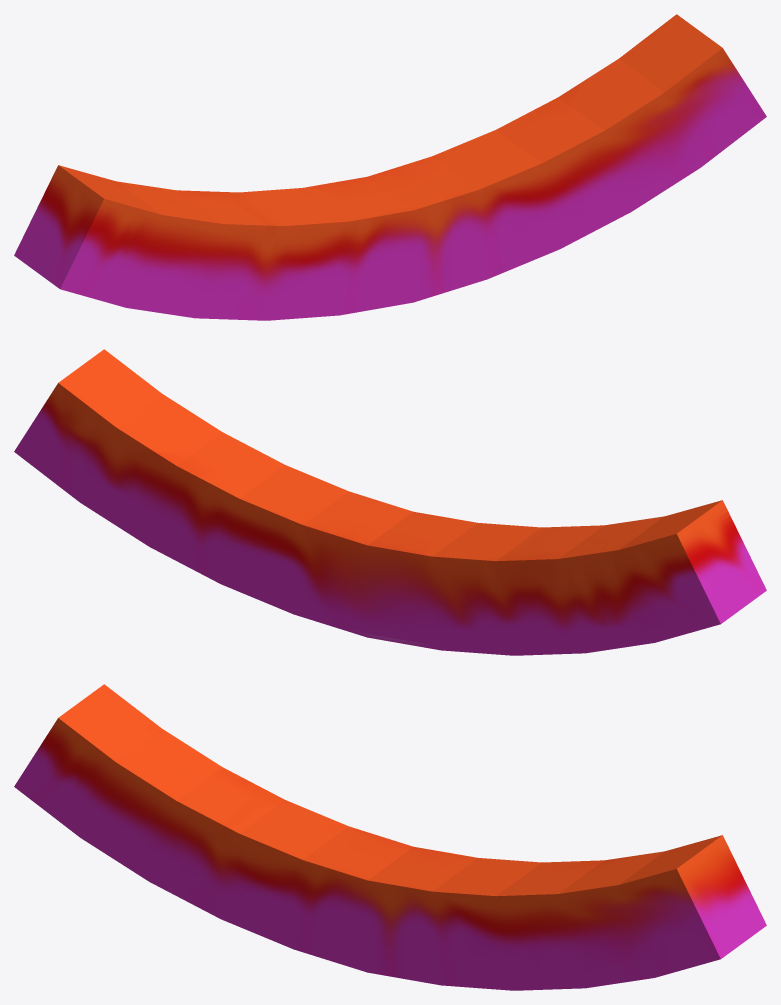
Rendered from long.obj.
The picture shows the model from 3 angles, top to bottom: view 1: azimuth 30°, elevation 25°; view 2: azimuth 150°, elevation 25°; view 3: azimuth 330°, elevation 25°; orthographic projection.
Visible parts, largest first — view 1: long; view 2: long; view 3: long.
Part boxes in pixels (<box>): long: <box>14,14,766,320</box>; long: <box>14,349,766,655</box>; long: <box>14,684,766,990</box>.
Bounding box in the file's own units: 5.35 × 1.3 × 0.6036.
